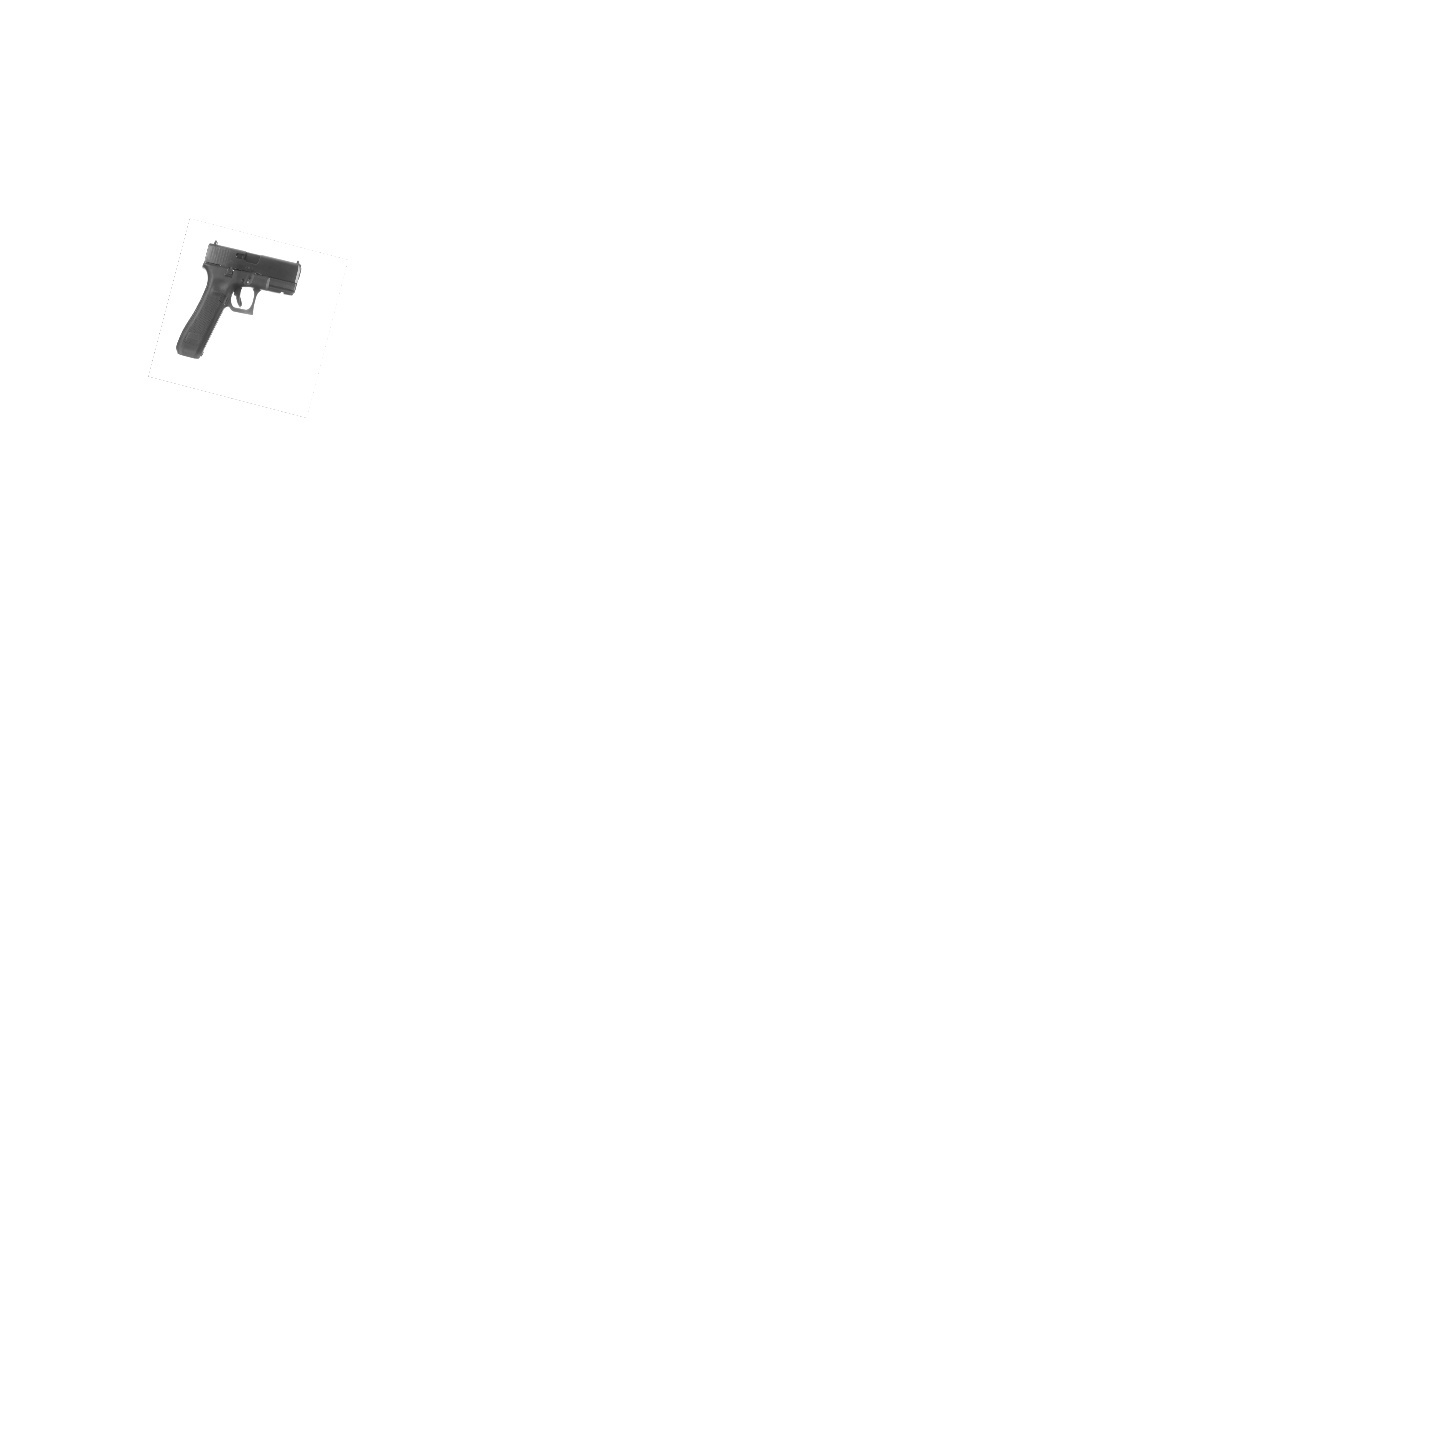gun: (176, 241, 302, 361)
